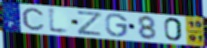0: (163, 17, 184, 43)
8: (137, 15, 158, 41)
C: (21, 7, 45, 32)
G: (104, 13, 129, 38)
L: (47, 6, 71, 36)
Z: (76, 10, 104, 37)
